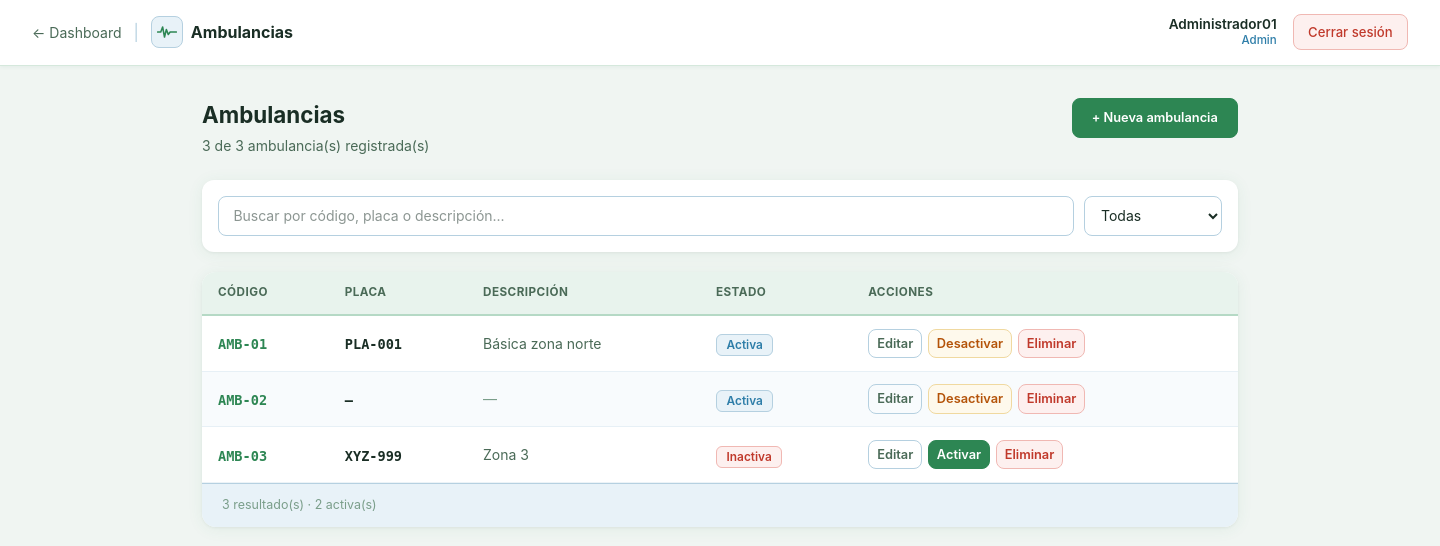
Test case: ambulancias/page.js · listado y filtros › filtra por estado=true
Expected: the text "AMB-01" is shown, 218,336 -> 267,352
Select "Solo activas" in the dropdown at (1153, 216), box 1084,196 -> 1222,236
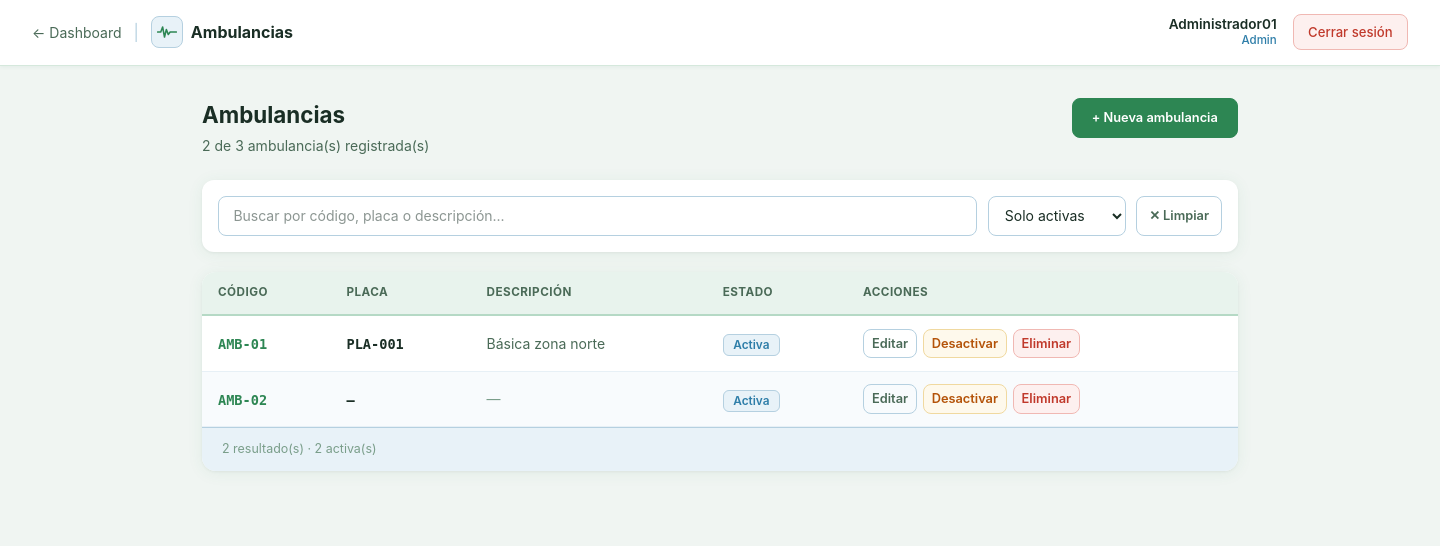
Expected: the text "AMB-01" is shown, 218,336 -> 267,352
Expected: the text "AMB-03" is gone
